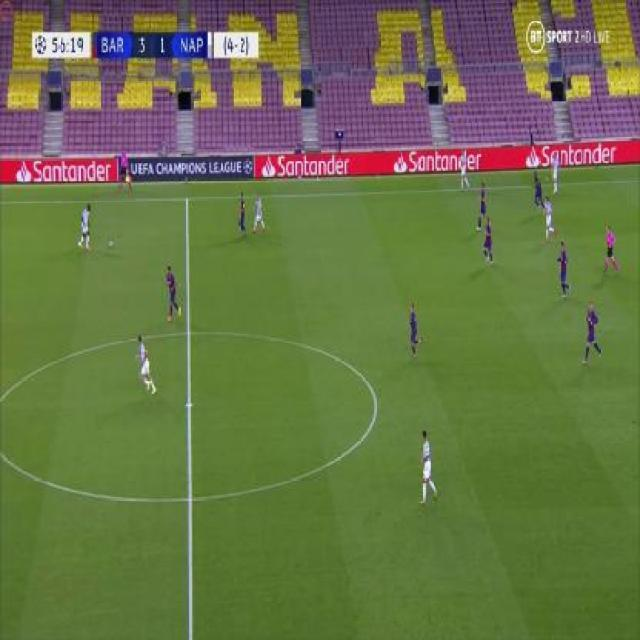ball: (108, 237, 114, 248)
player: (417, 427, 439, 507), (133, 335, 158, 397), (582, 300, 602, 366), (553, 239, 572, 298), (406, 298, 423, 361), (164, 263, 181, 322), (603, 221, 620, 277), (475, 179, 491, 232), (77, 202, 93, 251), (481, 219, 497, 267), (542, 194, 558, 242), (251, 190, 267, 236), (118, 146, 132, 192), (235, 188, 248, 237), (531, 171, 544, 211), (458, 153, 471, 189), (550, 152, 561, 194)
